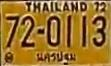0: (46, 15, 59, 46)
1: (66, 15, 71, 47), (81, 15, 86, 46)
2: (20, 16, 34, 46)
3: (92, 15, 106, 46)
7: (5, 15, 19, 47)
NPT: (34, 49, 78, 66)
